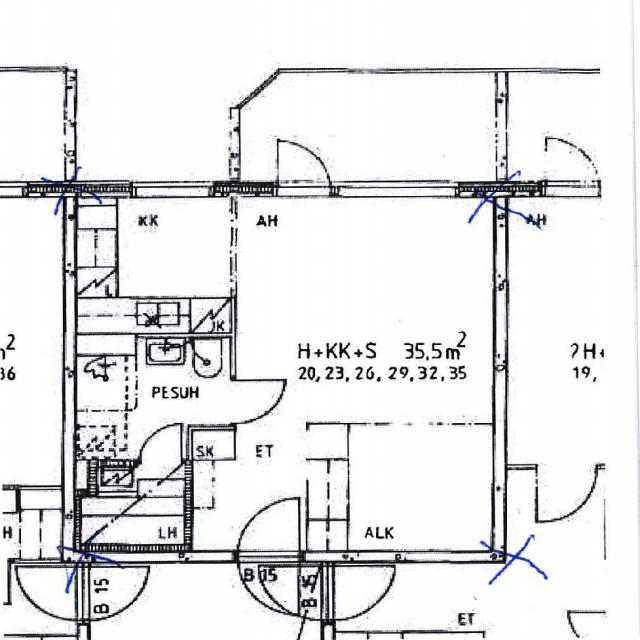door: (238, 550, 298, 617), (238, 496, 298, 563), (278, 136, 329, 197), (230, 379, 286, 424), (139, 422, 181, 468)
